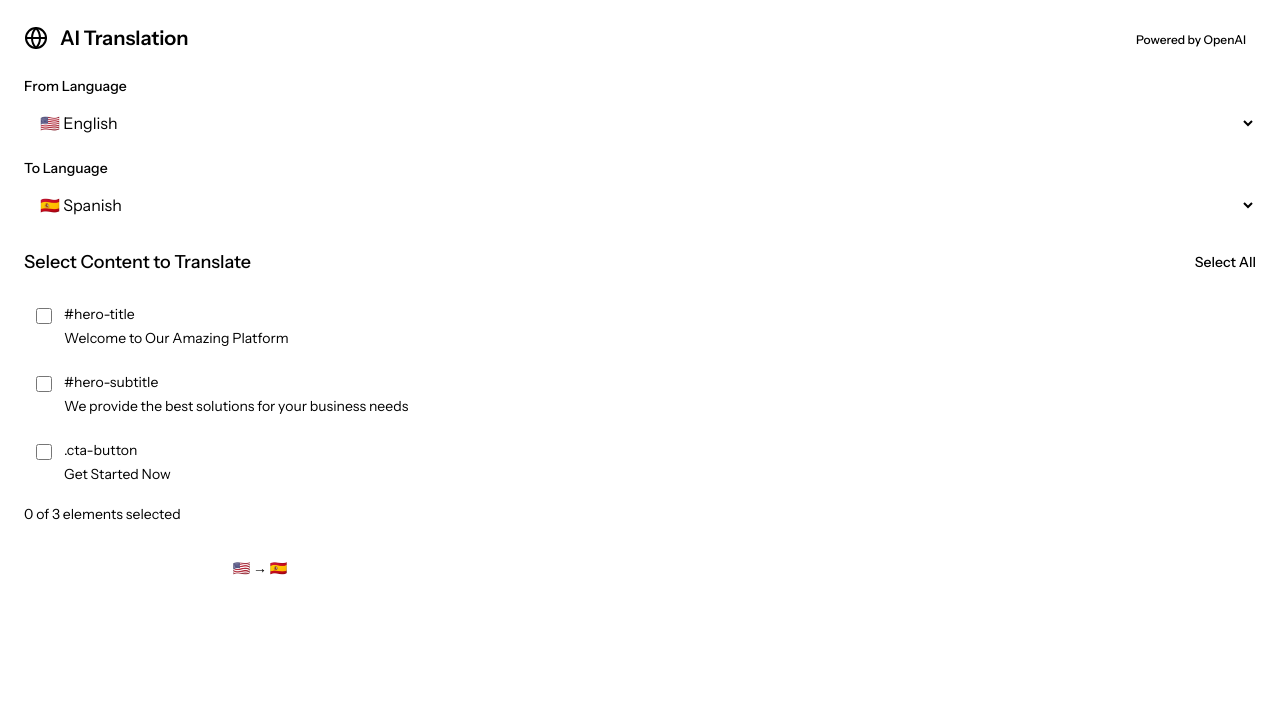
it: Translation Workflow Integration › Translation Dashboard Component Integration › should handle select all functionality
The width and height of the screenshot is (1280, 720).
# Click "Select All"
Click the button "Select All".
click(1225, 262)  # box [1195,252,1256,272]
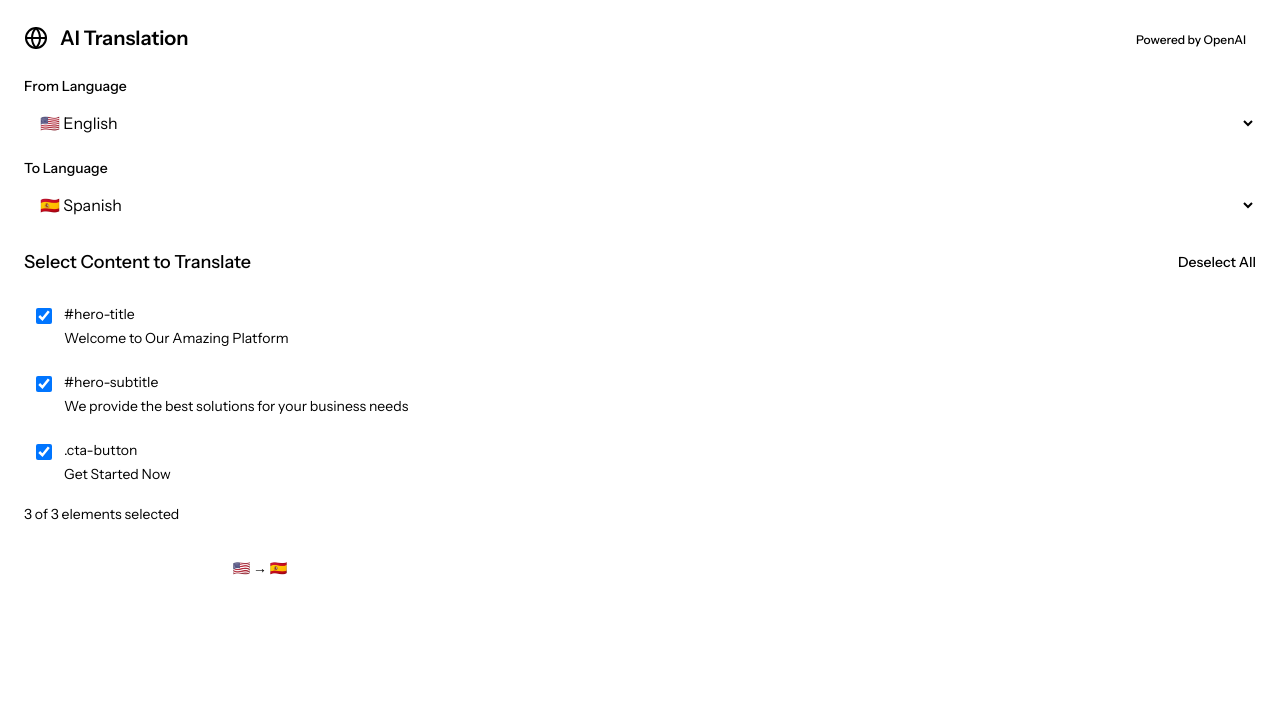
Expected: the text "3 of 3 elements selected" is shown, [24,505,179,523]
Expected: the checkbox next to "#hero-title" is checked, [36,308,52,324]
Expected: the checkbox next to "#hero-subtitle" is checked, [36,376,52,392]
# Click "Deselect All"
Click the button "Deselect All".
click(1217, 262)  # box [1178,252,1256,272]
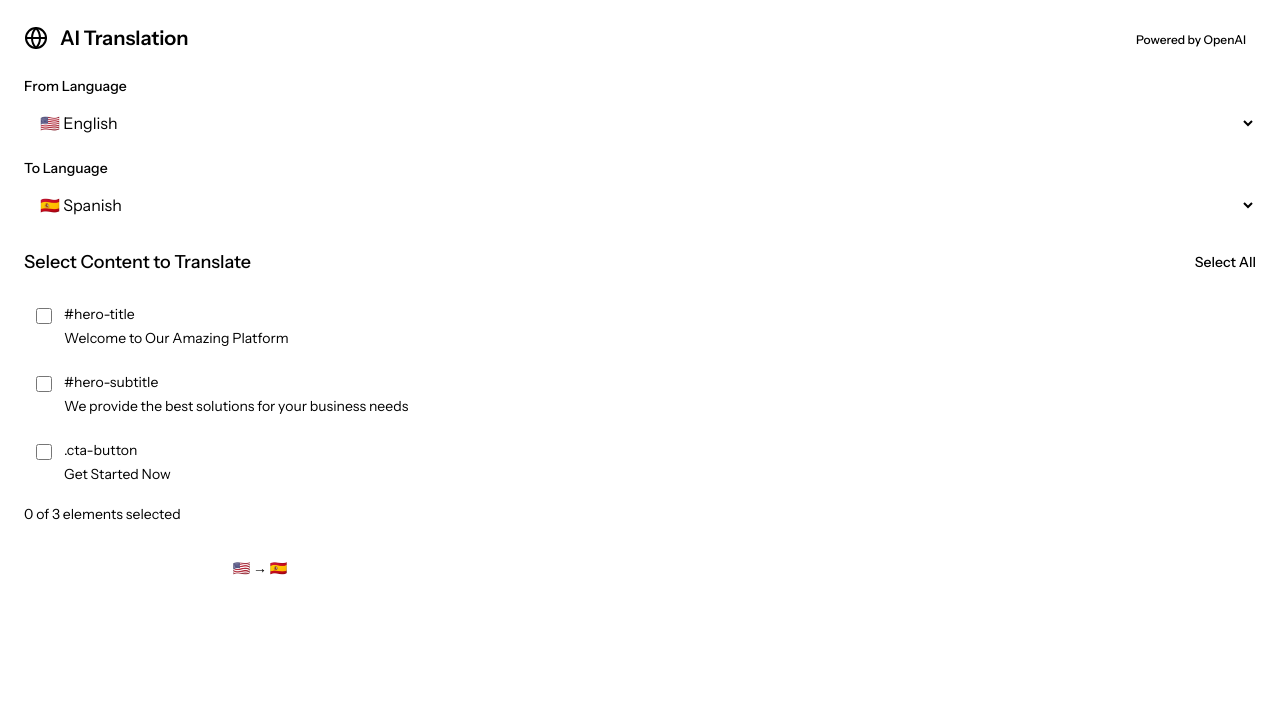
Expected: the text "0 of 3 elements selected" is shown, [24,505,181,523]
Expected: the checkbox next to "#hero-title" is not checked, [36,308,52,324]
Expected: the checkbox next to "#hero-subtitle" is not checked, [36,376,52,392]
